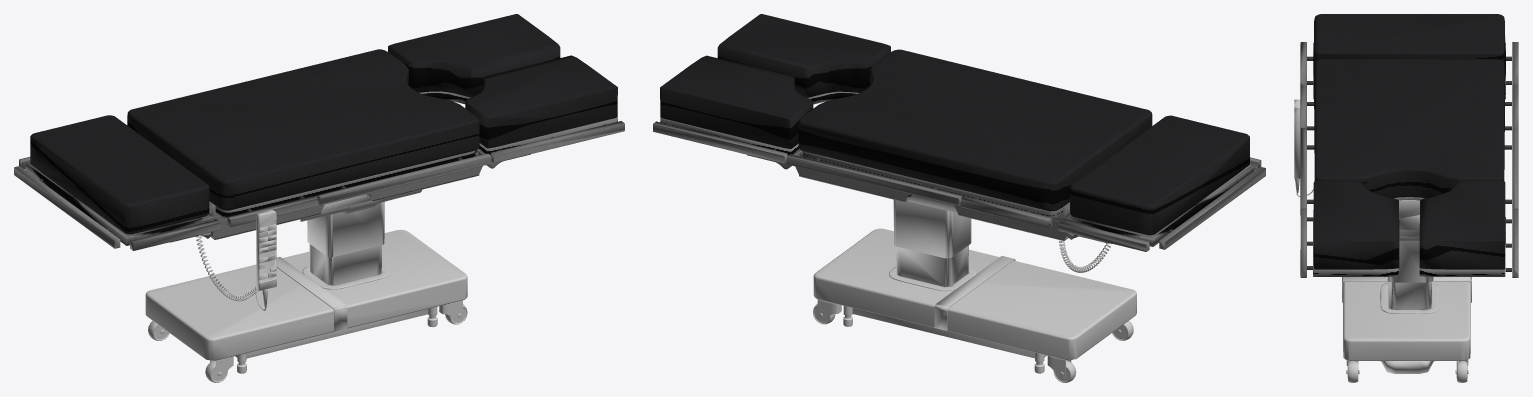
3 views of the same model, side by side, from view 1: azimuth 30°, elevation 25°; view 2: azimuth 150°, elevation 25°; view 3: azimuth 270°, elevation 25° (orthographic). The views are drawn at different scales.
Visible parts, largest first — view 1: MM-4; view 2: MM-4; view 3: MM-4.
Boxes of the visible parts, <box> form: MM-4: <box>14,14,624,382</box>; MM-4: <box>653,14,1265,382</box>; MM-4: <box>1294,14,1518,382</box>.
Bounding box in the file's own units: 190 × 78.42 × 77.03.
